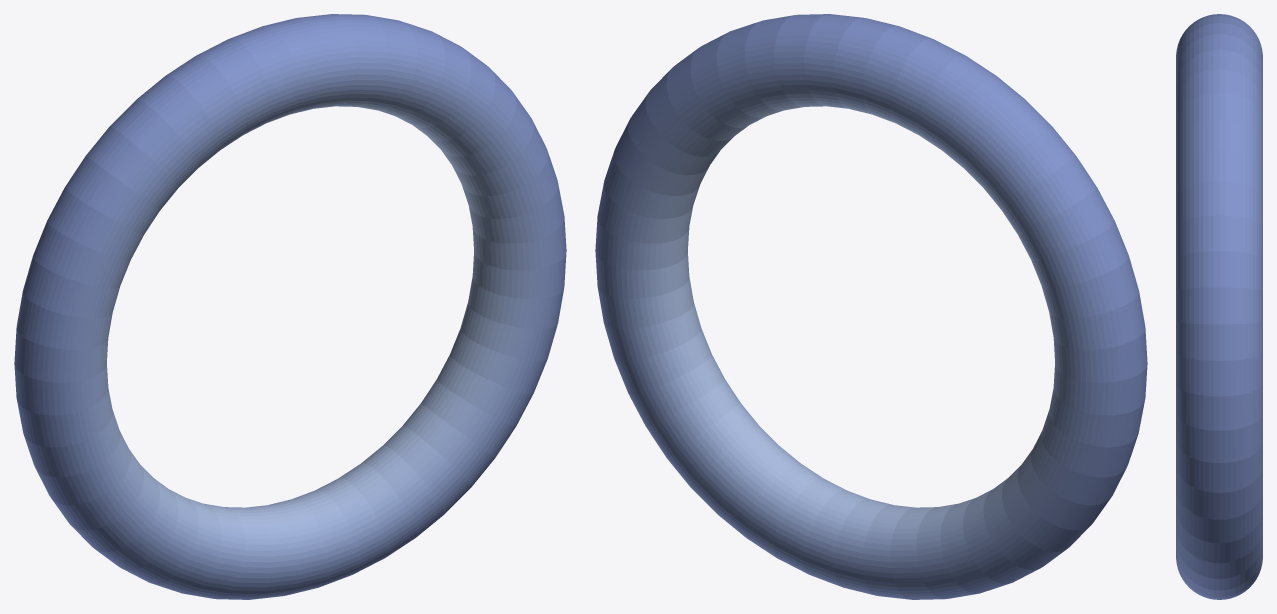
The picture shows the model from 3 angles, left to right: view 1: azimuth 30°, elevation 25°; view 2: azimuth 150°, elevation 25°; view 3: azimuth 270°, elevation 25°; orthographic projection. The views are drawn at different scales.
Visible parts, largest first — view 1: world; view 2: world; view 3: world.
Boxes of the visible parts, bbox=[...] form: world: bbox=[14, 14, 566, 599]; world: bbox=[595, 14, 1147, 599]; world: bbox=[1176, 14, 1262, 599].
Size of the model in its own units: 24.27 by 24.22 by 3.59.
